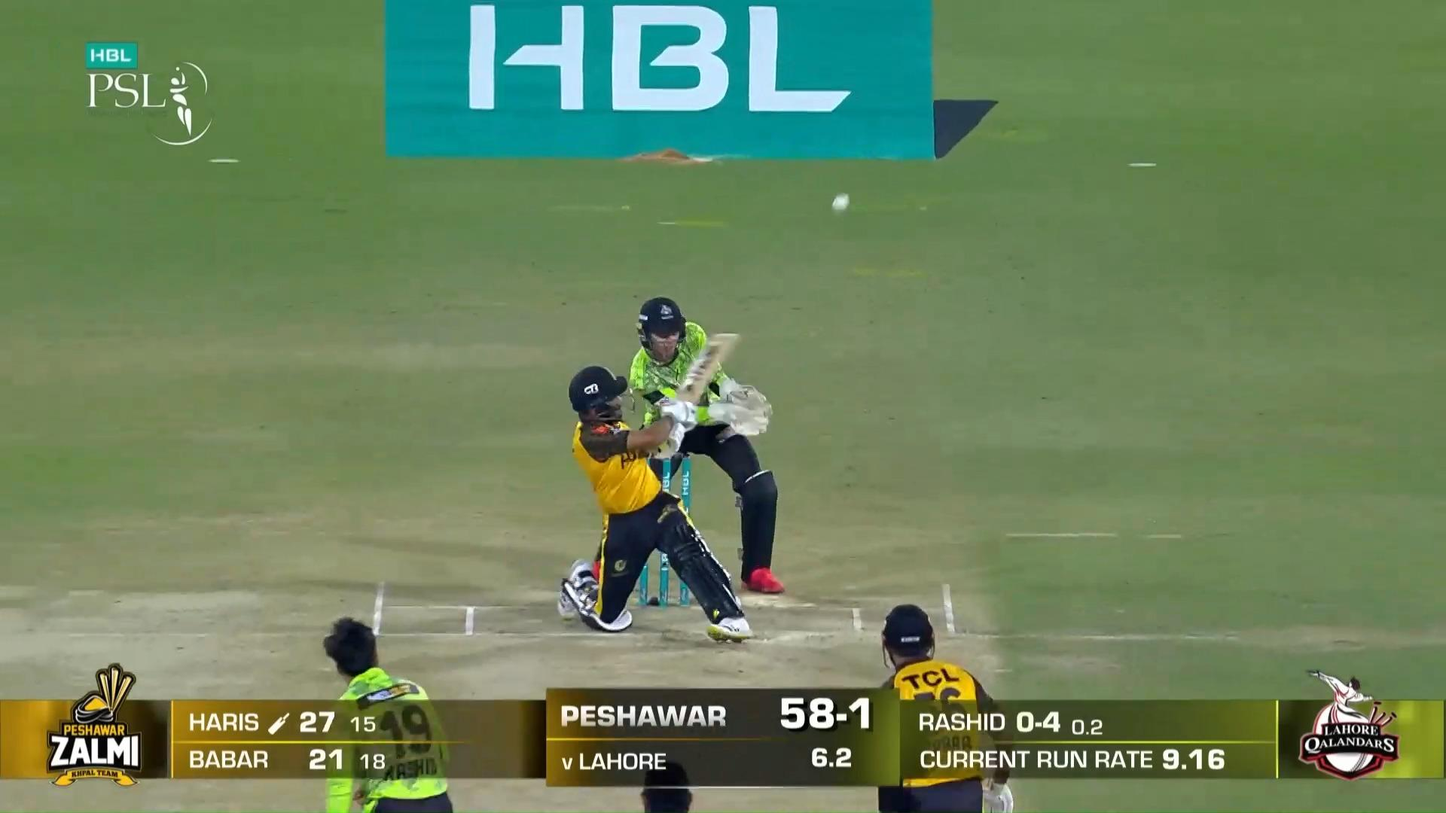batsman: (557, 333, 756, 643)
